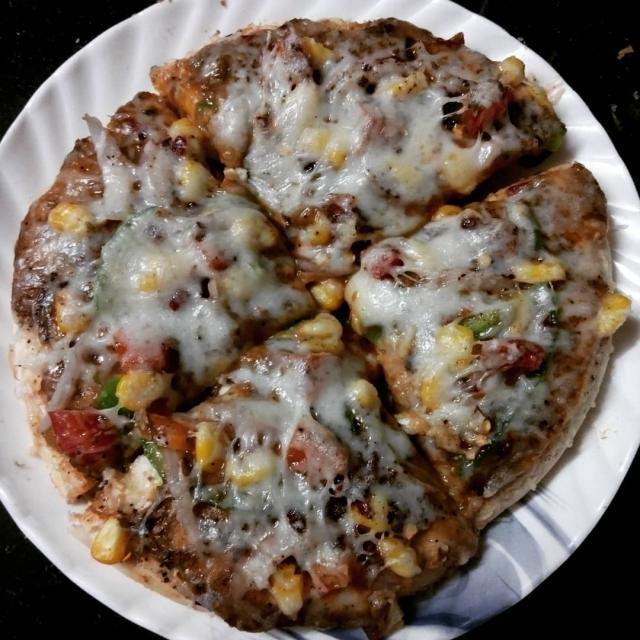pizza: (10, 18, 631, 640)
